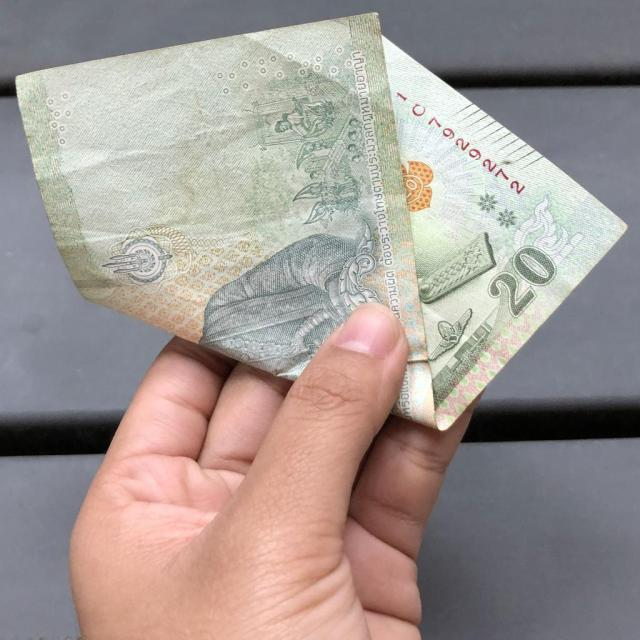THAI20: (15, 12, 627, 431)
